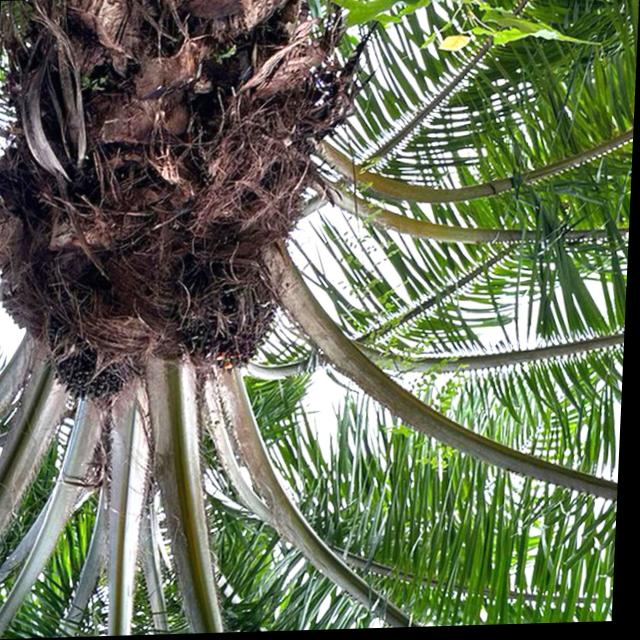almost: (162, 250, 293, 383)
